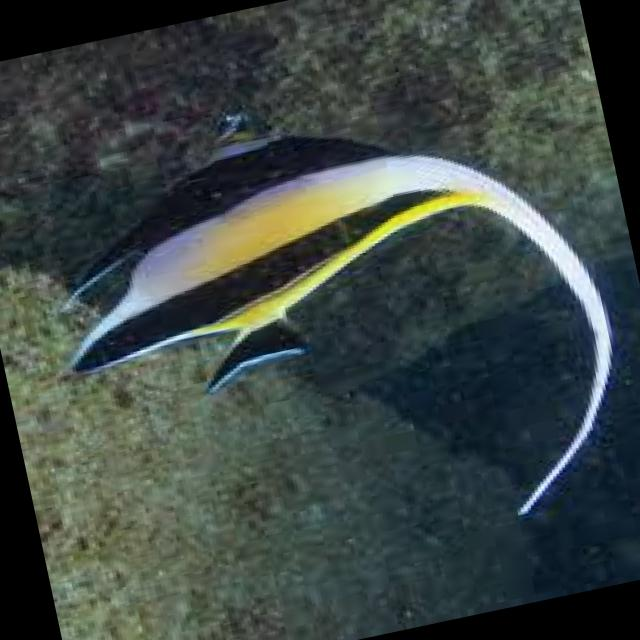MorishIdol: (11, 38, 640, 606)
